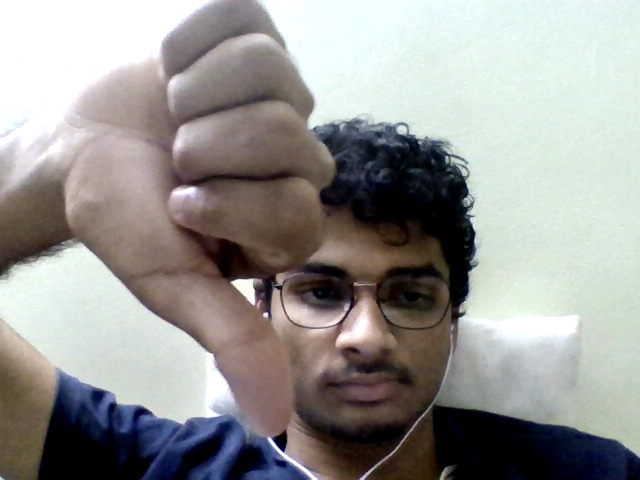ThumbsDown: (66, 4, 336, 438)
